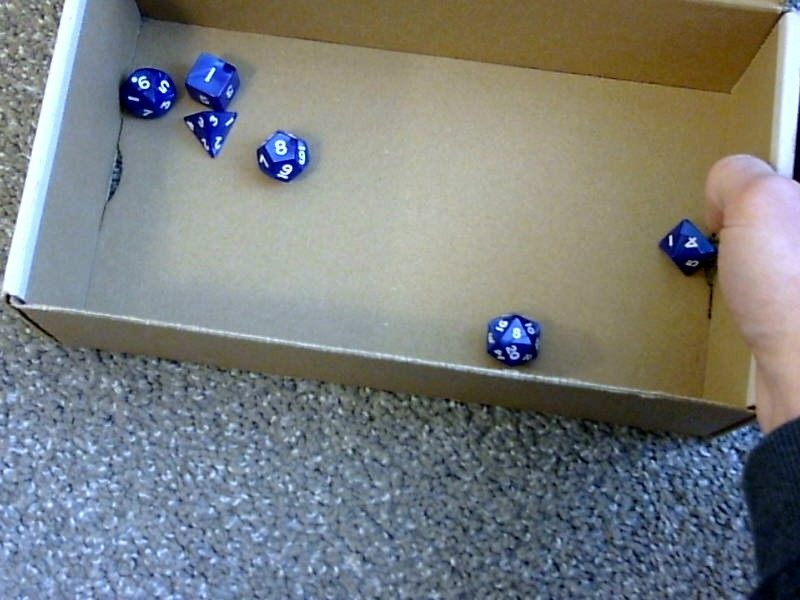d10 9: (117, 58, 178, 122)
d12 8: (255, 124, 310, 184)
d20 8: (480, 306, 545, 369)
d4 3: (181, 107, 237, 161)
d6 1: (181, 47, 240, 111)
d8 4: (652, 214, 717, 277)
